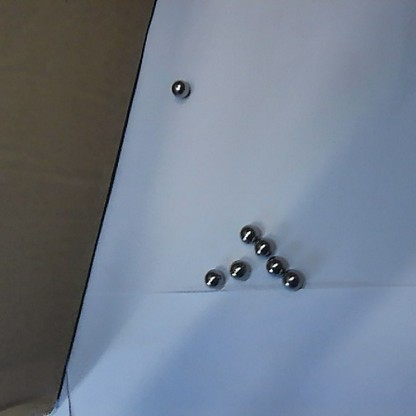ironball: (203, 264, 226, 292), (282, 264, 306, 290), (168, 76, 192, 100), (264, 253, 287, 278), (227, 258, 247, 281), (252, 238, 272, 259), (240, 223, 259, 244)
